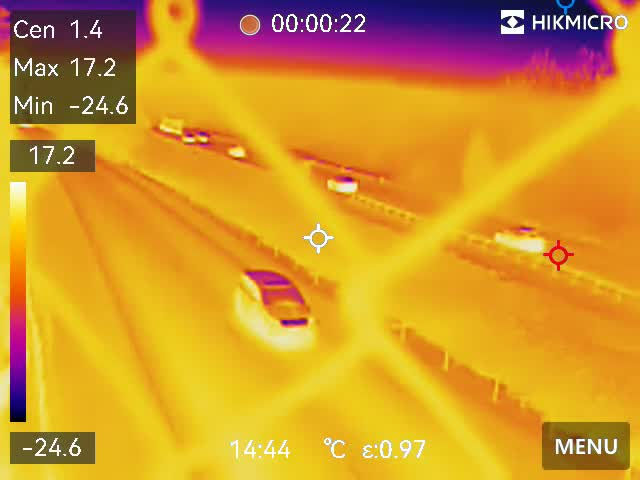heavyTruck: (154, 115, 185, 133)
largeCar: (233, 261, 324, 349)
vehicle: (490, 225, 552, 253), (324, 171, 359, 195), (225, 143, 251, 163), (180, 132, 194, 146), (197, 133, 211, 144)
